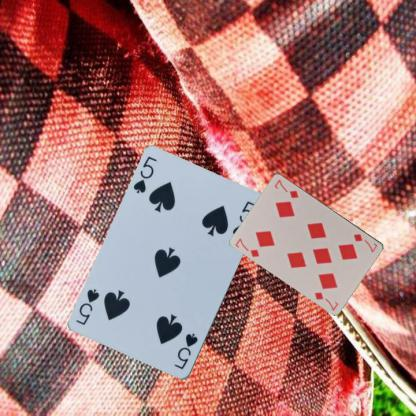5s: (131, 154, 158, 195), (172, 331, 199, 371)
7d: (351, 231, 379, 254), (233, 236, 261, 258)
